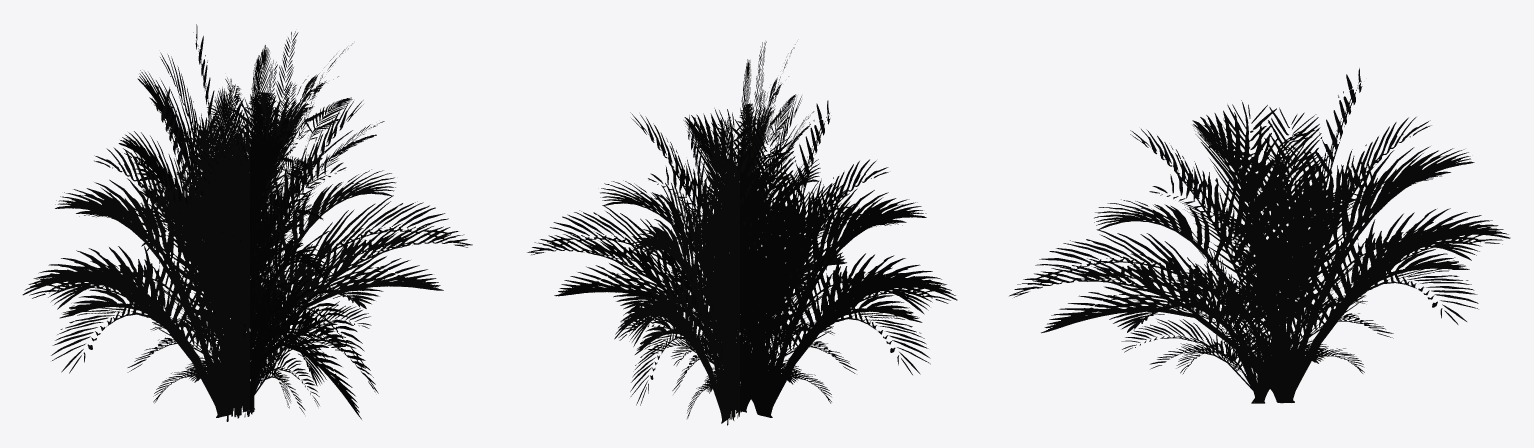
The model's file is MSH_ArecaPalm_Imposters_ABC.FBX.
The picture shows the model from 3 angles, left to right: view 1: azimuth 30°, elevation 25°; view 2: azimuth 150°, elevation 25°; view 3: azimuth 270°, elevation 25°; orthographic projection. The views are drawn at different scales.
Visible parts, largest first — view 1: ArecaPalm_Imposters_B_GEO, ArecaPalm_Imposters_C_GEO, ArecaPalm_Imposters_A_GEO; view 2: ArecaPalm_Imposters_B_GEO, ArecaPalm_Imposters_A_GEO, ArecaPalm_Imposters_C_GEO; view 3: ArecaPalm_Imposters_B_GEO, ArecaPalm_Imposters_A_GEO.
Part boxes in pixels (<box>): ArecaPalm_Imposters_B_GEO: <box>22,24,472,419</box>; ArecaPalm_Imposters_C_GEO: <box>174,31,384,421</box>; ArecaPalm_Imposters_A_GEO: <box>127,213,371,414</box>; ArecaPalm_Imposters_B_GEO: <box>527,96,957,423</box>; ArecaPalm_Imposters_A_GEO: <box>624,217,856,418</box>; ArecaPalm_Imposters_C_GEO: <box>698,41,814,425</box>; ArecaPalm_Imposters_B_GEO: <box>1009,68,1510,403</box>; ArecaPalm_Imposters_A_GEO: <box>1121,208,1393,403</box>.
Bounding box in the file's own units: 394 × 306 × 394.
